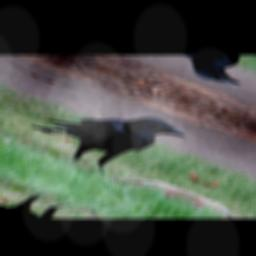Crow: (13, 86, 193, 188)
